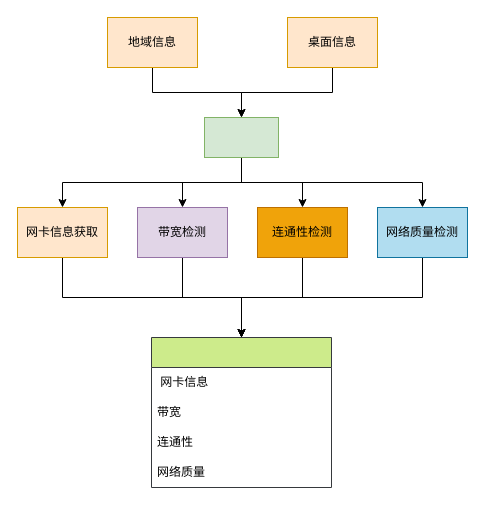
This 485x505 diagram has some shape labels left out. The box of each missing label's shape, as (x1, y1, x2, y2) in pixels:
一键检测: (204, 116, 278, 158)
检测报告: (150, 336, 332, 488)
